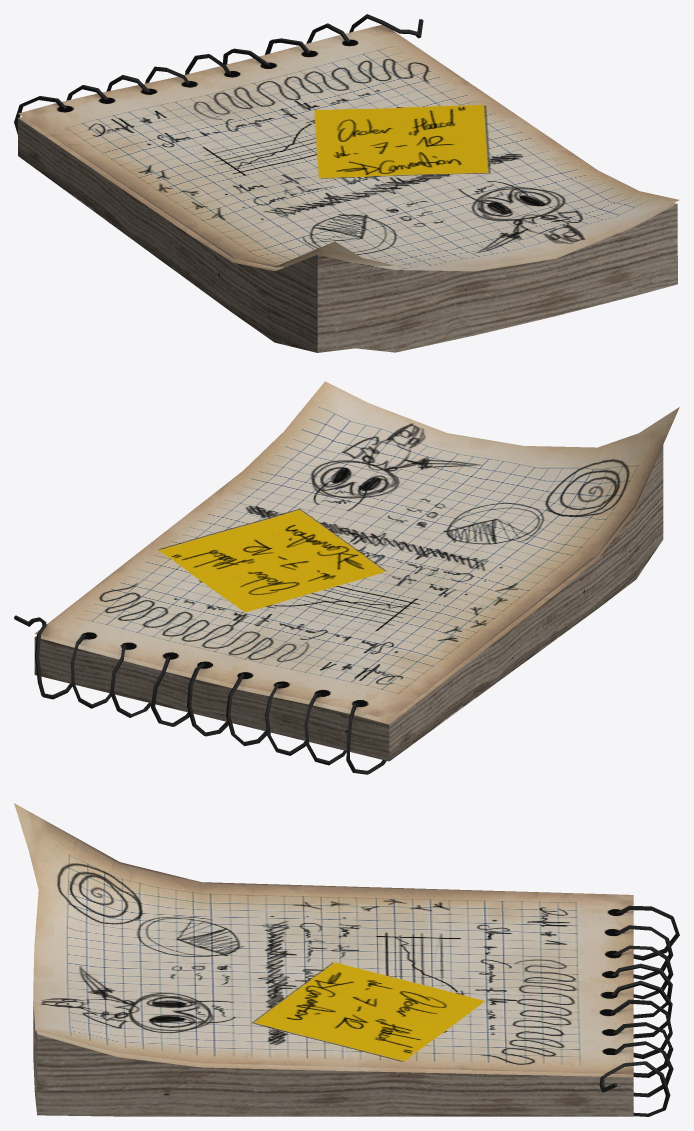
Rendered from documents.DAE.
3 views of the same model, one above another, from view 1: azimuth 30°, elevation 25°; view 2: azimuth 150°, elevation 25°; view 3: azimuth 270°, elevation 25° (orthographic). The views are drawn at different scales.
Parts seen in each view (by area): view 1: documents; view 2: documents; view 3: documents.
Part boxes in pixels (box(x1,y1,x2,y2)): documents: box(14, 14, 679, 352); documents: box(14, 381, 679, 774); documents: box(14, 803, 679, 1116).
Size of the model in its own units: 139 by 51.27 by 202.
